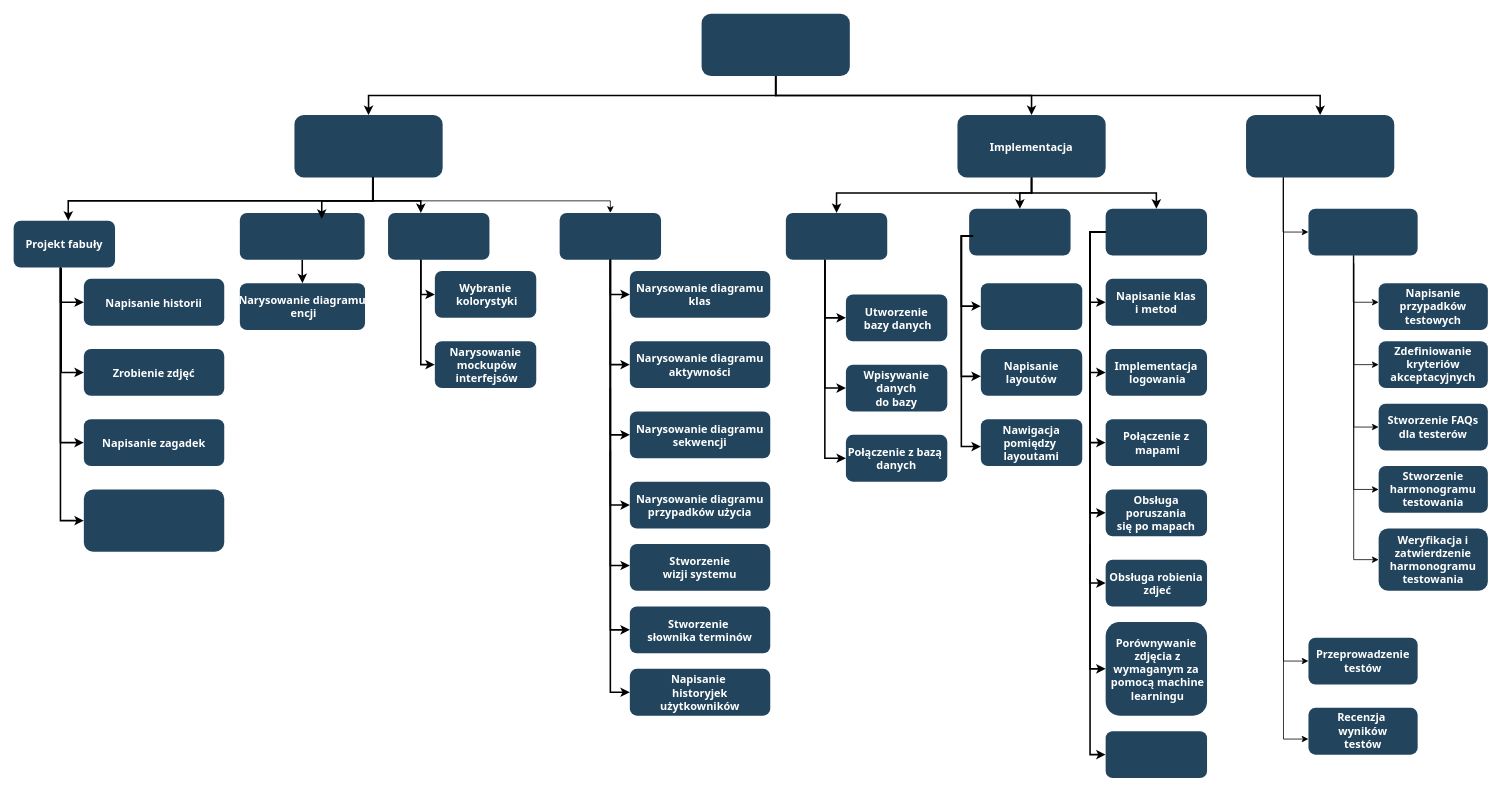
Some shapes in this 1501 by 791 pixel diagram are drawn without their labels. The shapes that lost their labels are listed below. From the top down, each one's centre as x and y in pixels, then its label:
pixel 775 44: ZPI
pixel 368 146: Projekt
pixel 1320 146: Testowanie
pixel 301 236: Projekt bazy danych
pixel 438 236: Projekt interfejsów
pixel 610 236: Projekt struktury
pixel 836 236: Implementacja bazy danych
pixel 1019 231: Implementacja interfejsów
pixel 1156 231: Implementacja struktury
pixel 1362 231: Przygotowanie przypadków testowych
pixel 1031 306: Stworzenie grafik
pixel 153 520: Rozrysowanie połączeń między zagadkami w poszczególnych etapach gry
pixel 1156 754: Stworzenie fabuły
